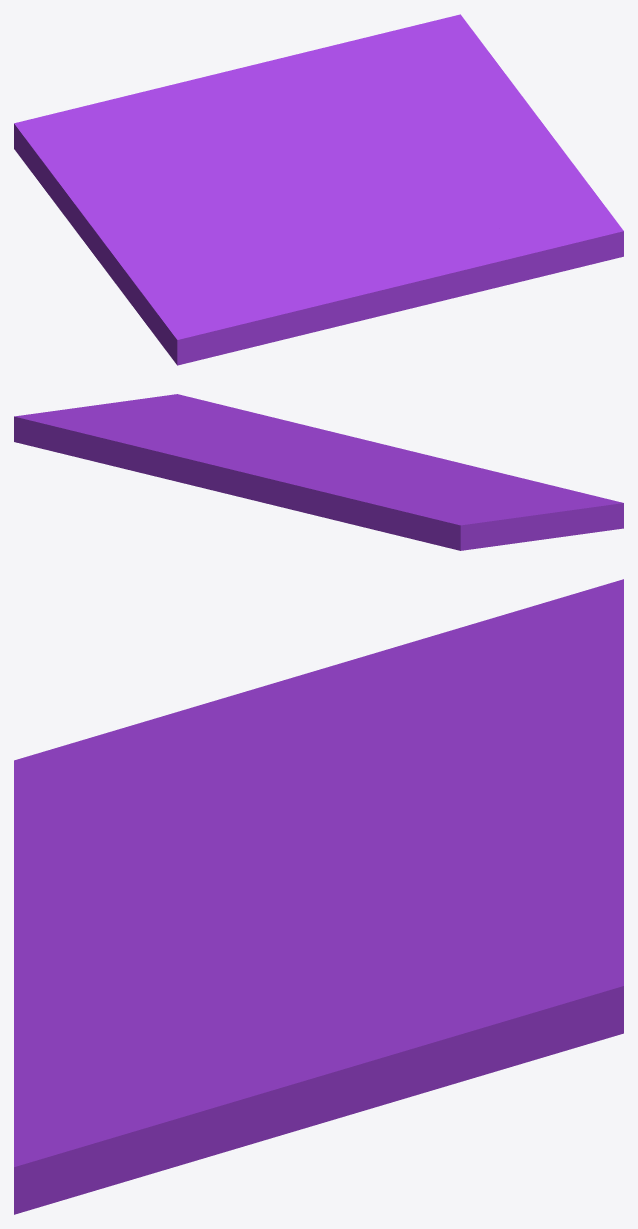
Rendered from Window_164_chunks.fbx.
3 views of the same model, one above another, from view 1: azimuth 30°, elevation 25°; view 2: azimuth 150°, elevation 25°; view 3: azimuth 270°, elevation 25° (orthographic). The views are drawn at different scales.
Visible parts, largest first — view 1: Window_164_2, Window_164_1, Window_164_0, Window_164_3; view 2: Window_164_1, Window_164_2, Window_164_0, Window_164_3; view 3: Window_164_2, Window_164_1, Window_164_0, Window_164_3.
Part boxes in pixels (<box>): Window_164_2: <box>273,14,623,276</box>; Window_164_1: <box>14,60,319,299</box>; Window_164_0: <box>127,211,539,365</box>; Window_164_3: <box>279,172,559,284</box>; Window_164_1: <box>201,459,585,550</box>; Window_164_2: <box>14,394,311,488</box>; Window_164_0: <box>389,447,623,535</box>; Window_164_3: <box>242,410,395,470</box>; Window_164_2: <box>14,815,623,1214</box>; Window_164_1: <box>157,579,623,872</box>; Window_164_0: <box>14,718,262,967</box>; Window_164_3: <box>14,839,330,1108</box>.
Bounding box in the file's own units: 1838 × 482 × 1165.
